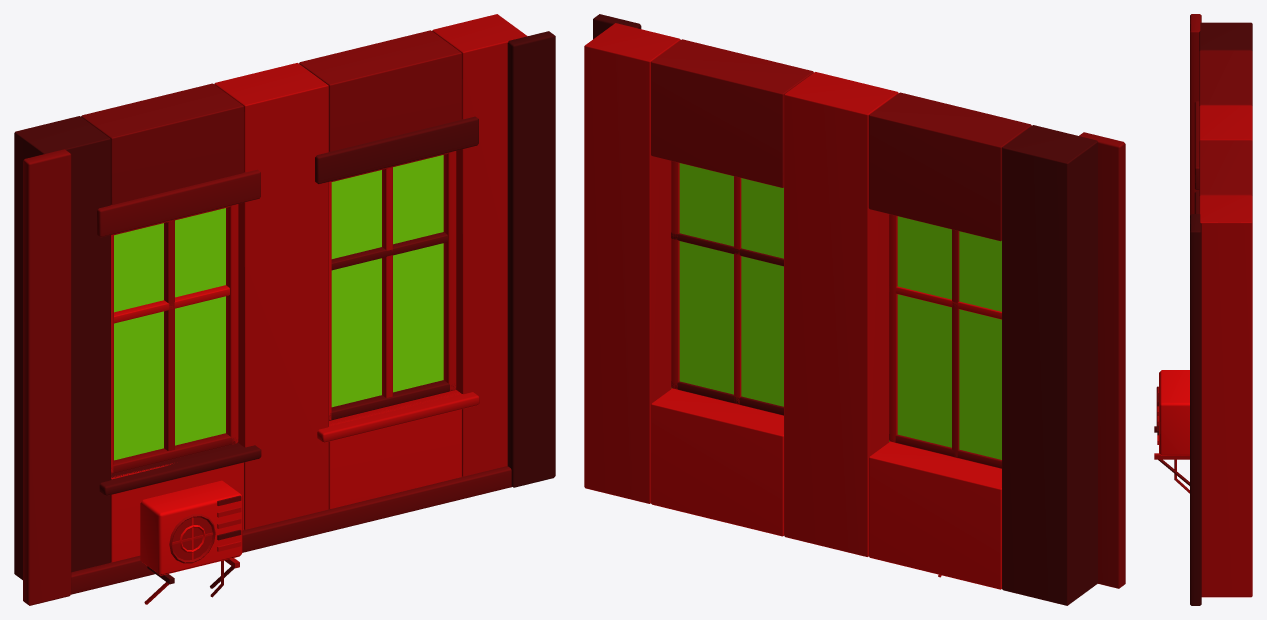
File: fac_brick_b.glb
3 views of the same model, side by side, from view 1: azimuth 30°, elevation 25°; view 2: azimuth 150°, elevation 25°; view 3: azimuth 270°, elevation 25° (orthographic). The views are drawn at different scales.
Parts seen in each view (by area): view 1: fac_brick_b; view 2: fac_brick_b; view 3: fac_brick_b.
Part boxes in pixels (x1,y1,x2,y2): fac_brick_b: (14, 14, 555, 605); fac_brick_b: (584, 14, 1125, 605); fac_brick_b: (1154, 14, 1252, 605).
Bounding box in the file's own units: 4.36 × 3.79 × 0.83.
